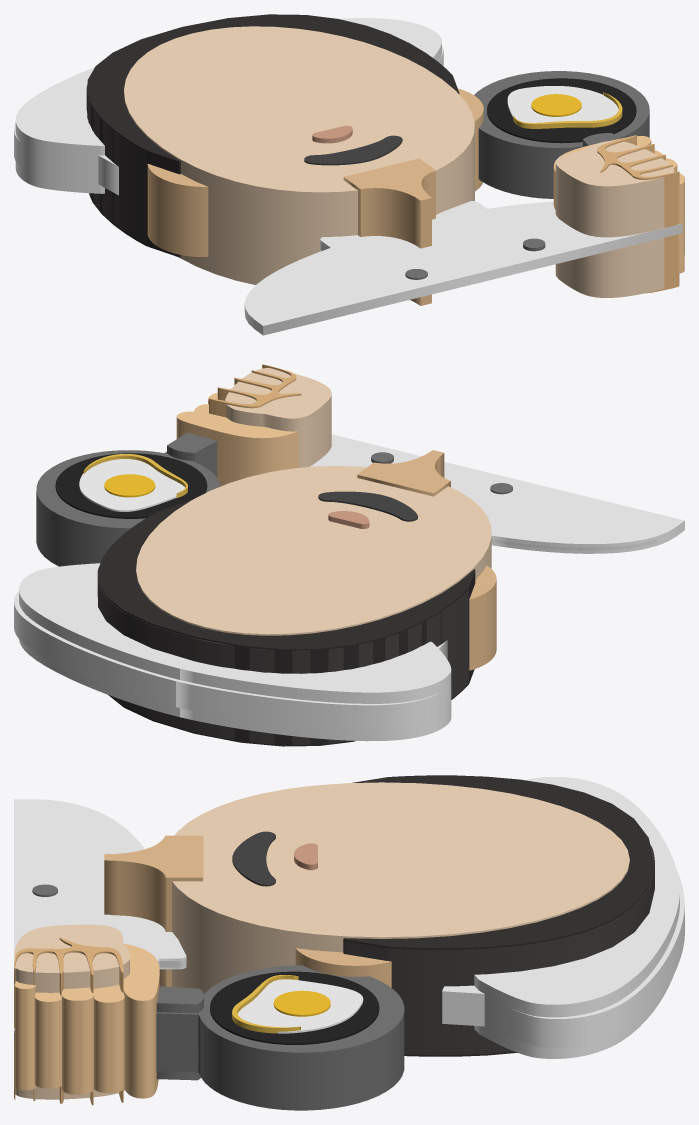
The model's file is emoji_u1f468_1f3fb_200d_1f373.glb.
3 renders of one model, top to bottom at view 1: azimuth 30°, elevation 25°; view 2: azimuth 150°, elevation 25°; view 3: azimuth 270°, elevation 25°, orthographic. The views are drawn at different scales.
Visible parts, largest first — view 1: emoji_u1f468_1f3fb_200d_1f373; view 2: emoji_u1f468_1f3fb_200d_1f373; view 3: emoji_u1f468_1f3fb_200d_1f373.
Part boxes in pixels (<box>): emoji_u1f468_1f3fb_200d_1f373: <box>14,14,684,335</box>; emoji_u1f468_1f3fb_200d_1f373: <box>14,364,684,746</box>; emoji_u1f468_1f3fb_200d_1f373: <box>14,775,684,1110</box>.
Size of the model in its own units: 0.0329 by 0.0072 by 0.0336.
